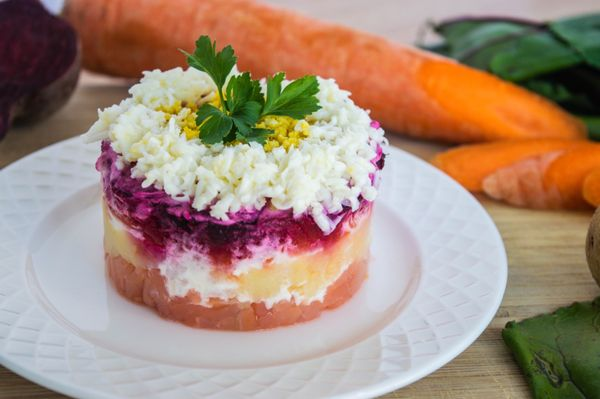curry: (10, 15, 597, 393)
pizza: (433, 138, 600, 210)
sushi: (92, 39, 387, 332)
